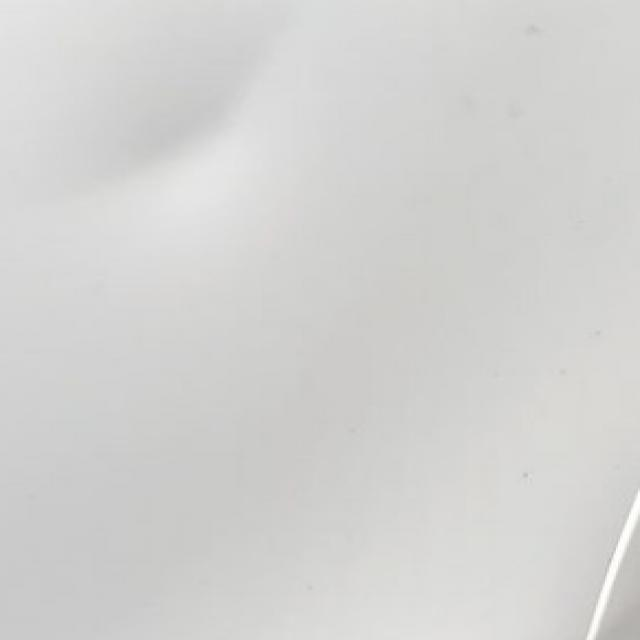dents: (18, 36, 306, 200)
